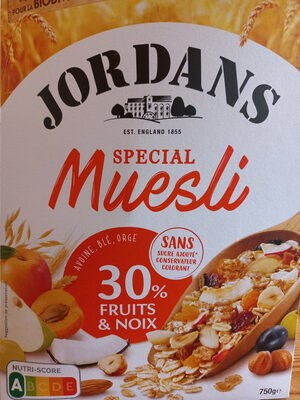Special Muesli 30% fruits & noix: (15, 20, 285, 380)
